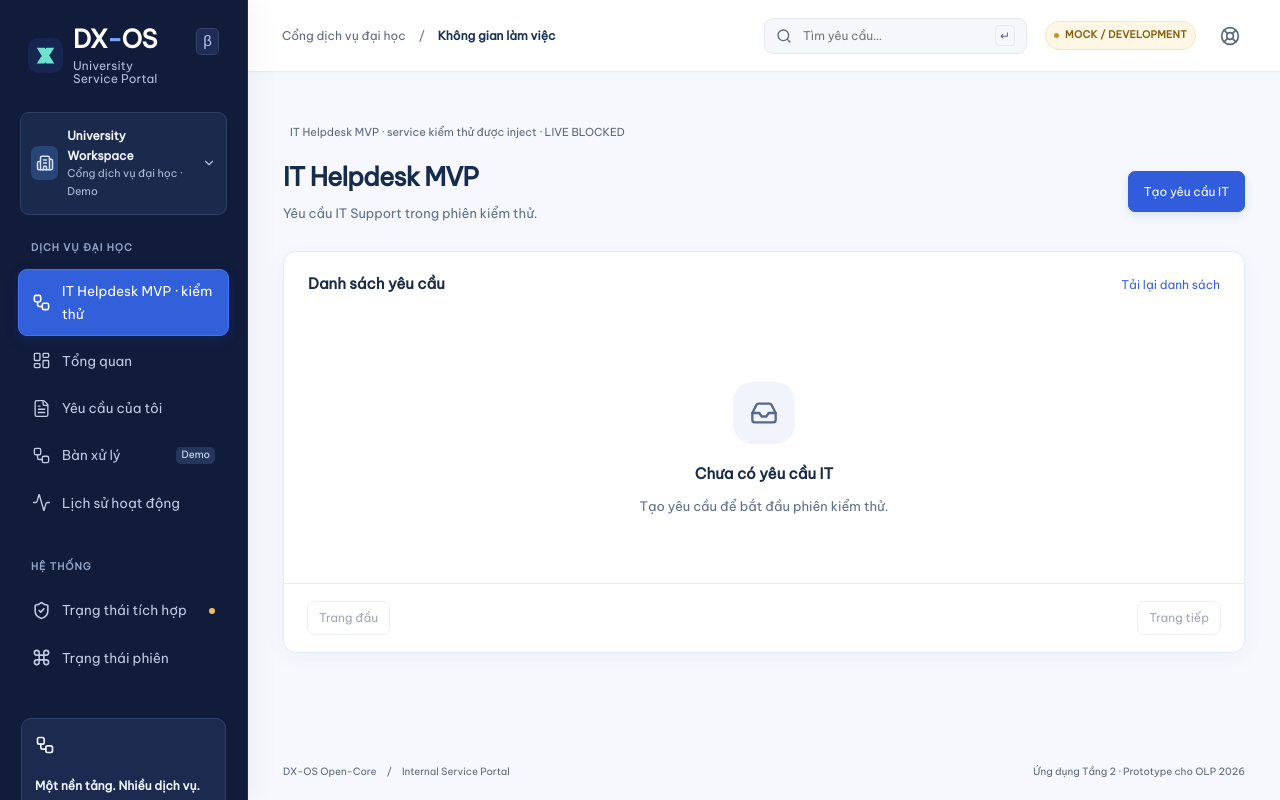
Test: APP-14 Portal MVP presentation integration › runs Create → List → Detail → Triage → Assign → Start → Resolve → Confirm → History through fake transport
Later steps or results of the test are not shown.
Expected: the heading "Chưa có yêu cầu IT" is shown, [695, 462, 833, 486]
Click the link "Tạo yêu cầu IT".
click(1186, 192)  # box [1128, 171, 1245, 212]
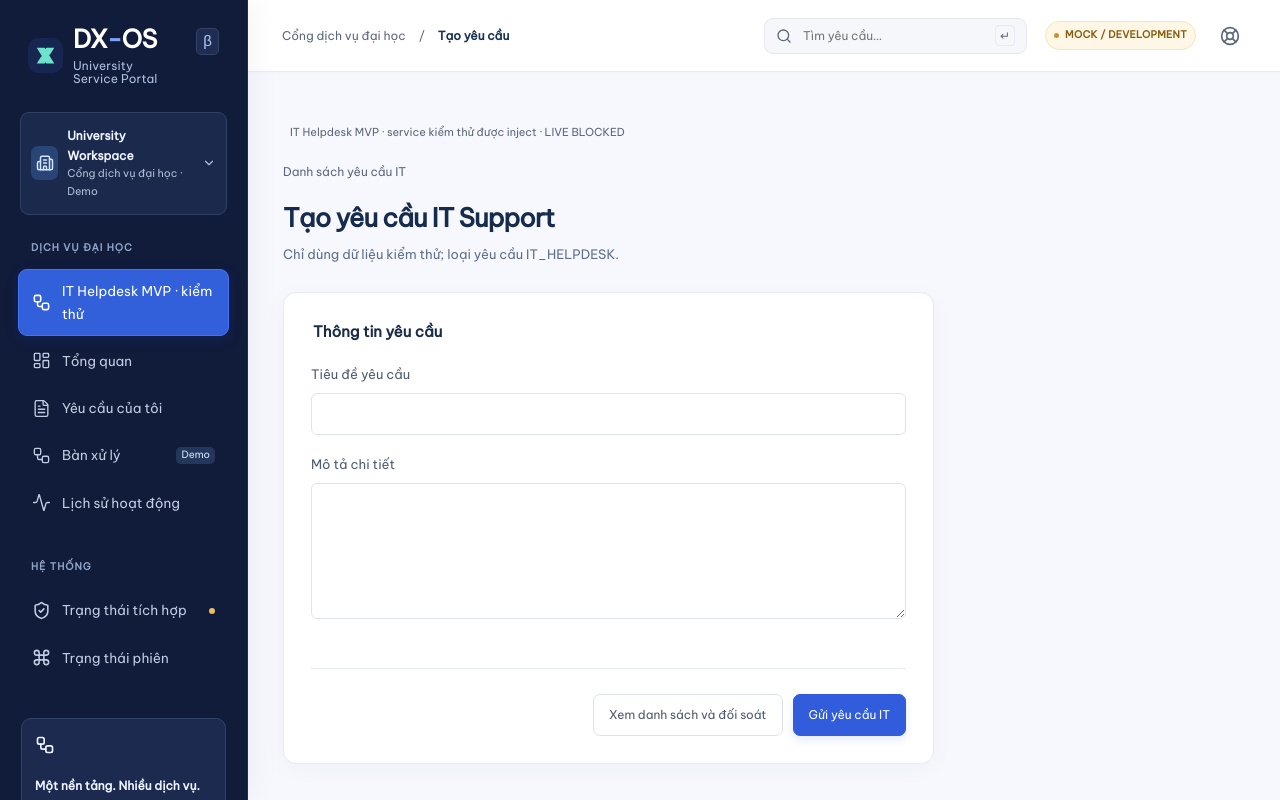
Type "Sự cố phần mềm APP-14" into the field labelled "Tiêu đề yêu cầu".
click(608, 414); type("Sự cố phần mềm APP-14")  # box [311, 393, 906, 435]
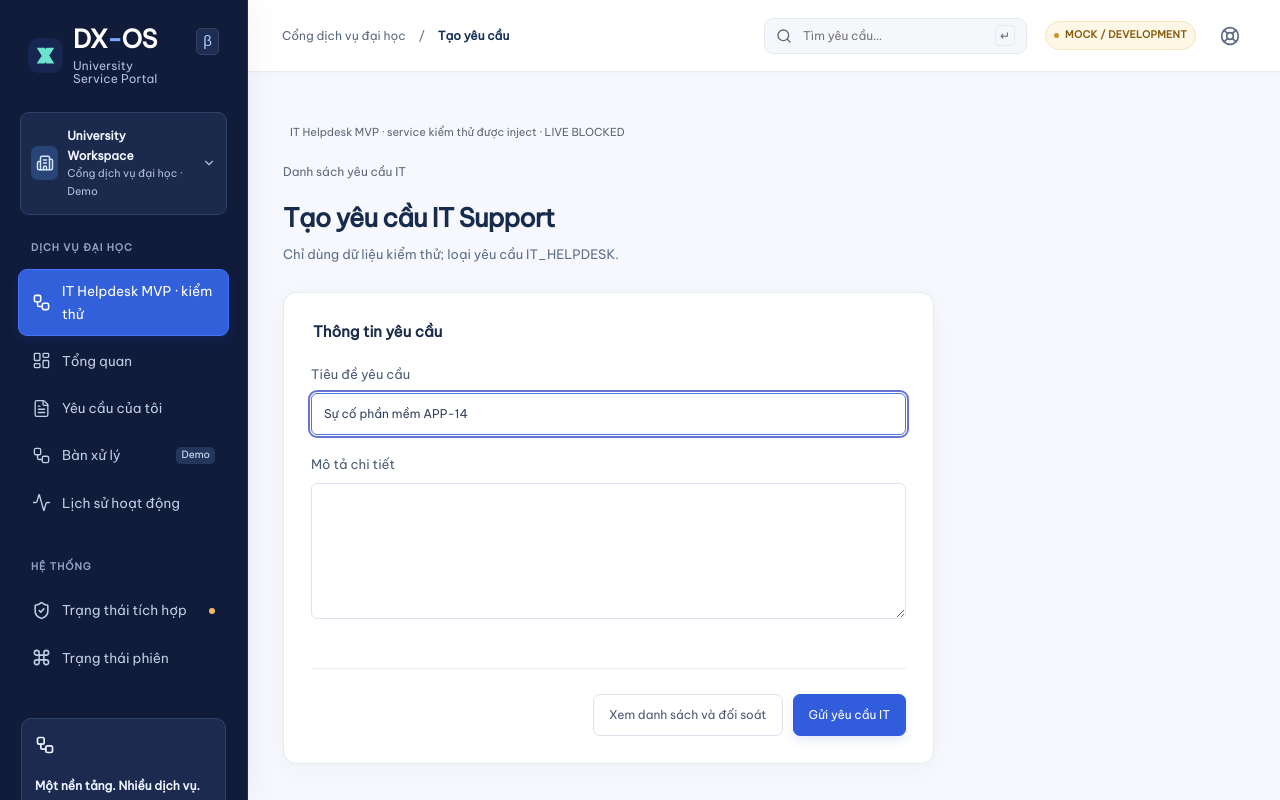
Type "Không thể lưu báo cáo công việc." into the text box labelled "Mô tả chi tiết".
click(608, 551); type("Không thể lưu báo cáo công việc.")  # box [311, 483, 906, 619]
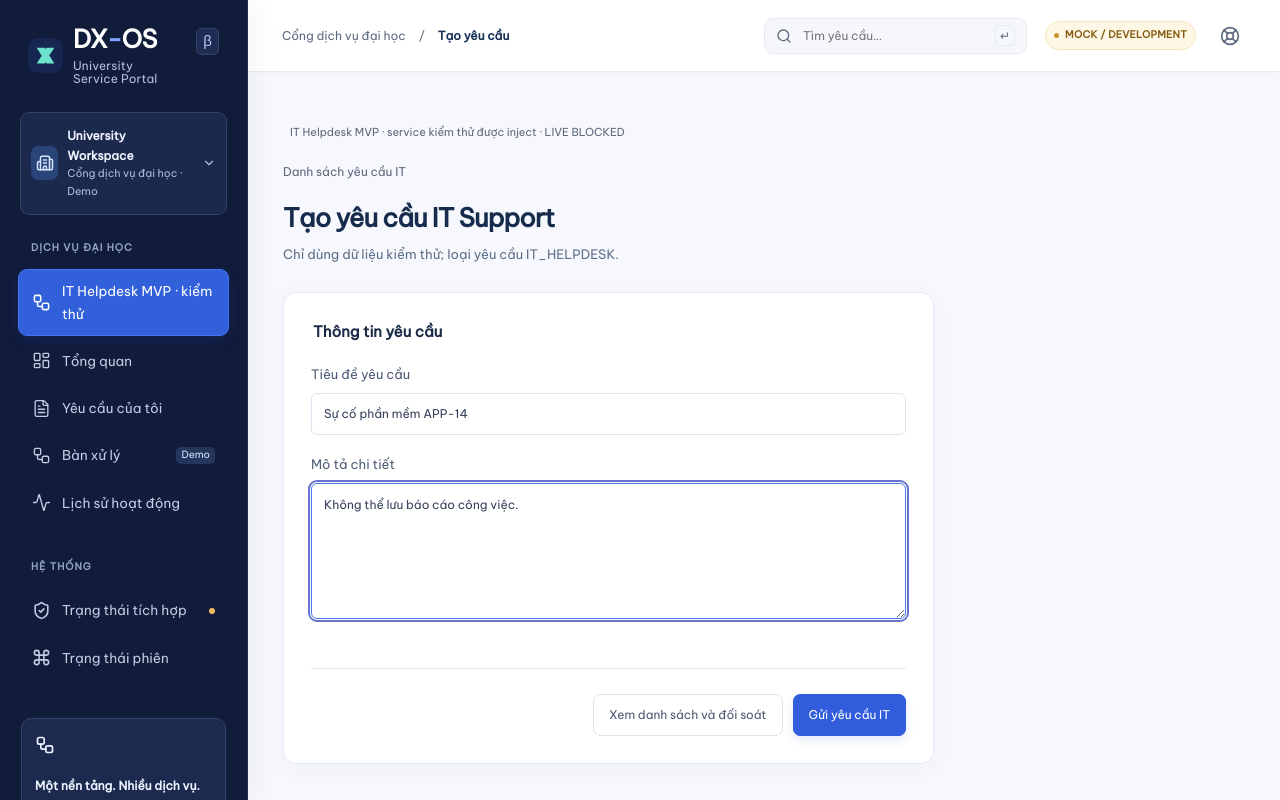
Double-click the button "Gửi yêu cầu IT".
double_click(849, 715)  # box [792, 694, 906, 736]
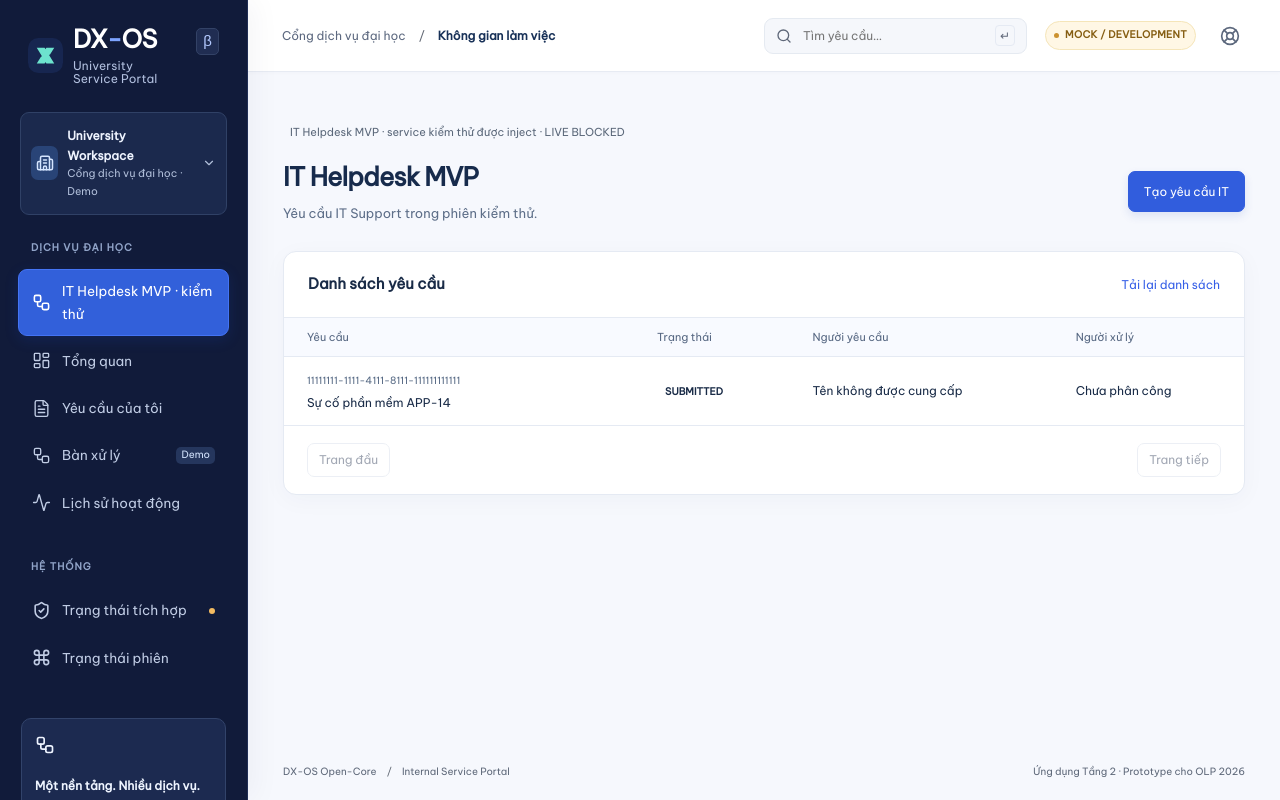
Click the link "11111111-1111-4111-8111-111111111111 Sự cố phần mềm APP-14".
click(384, 392)  # box [307, 374, 460, 410]
(page scrolled)
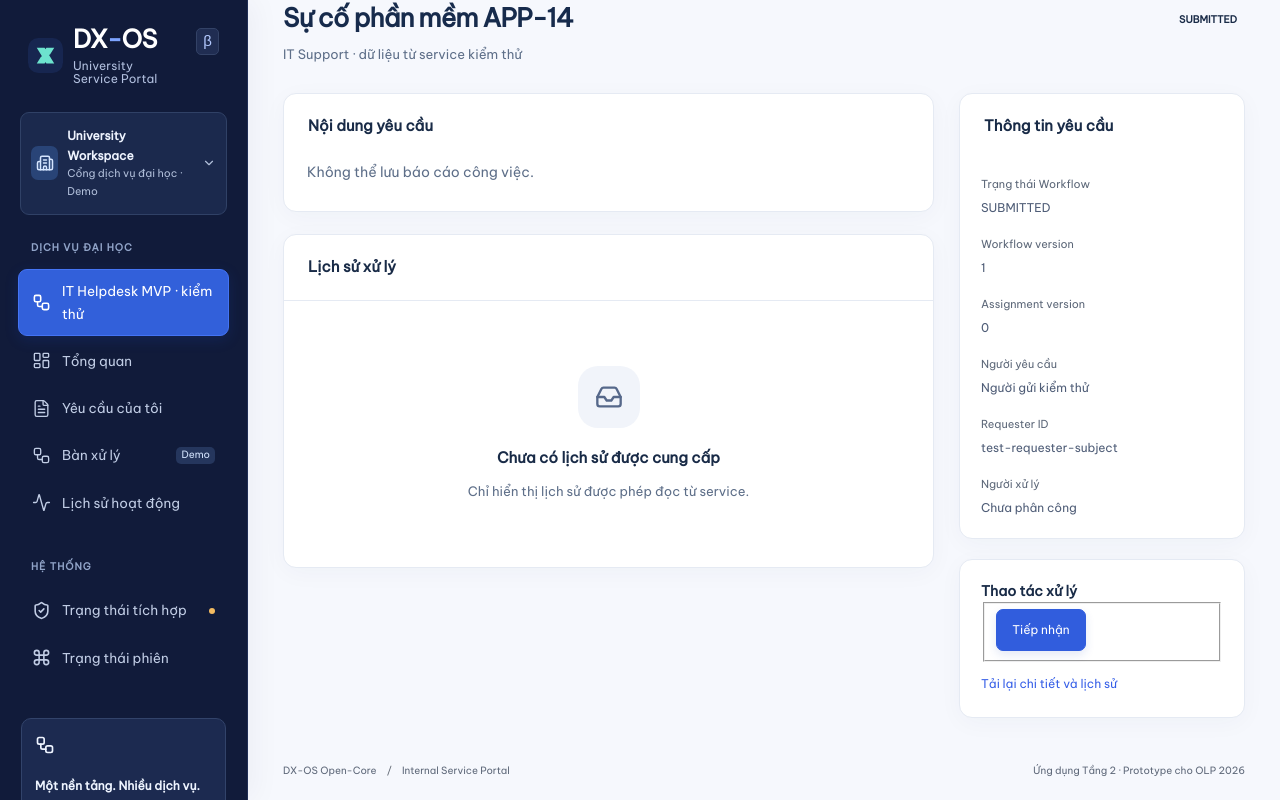
Expected: the text with test id "mvp-state" reads "SUBMITTED", [981, 200, 1050, 215]
